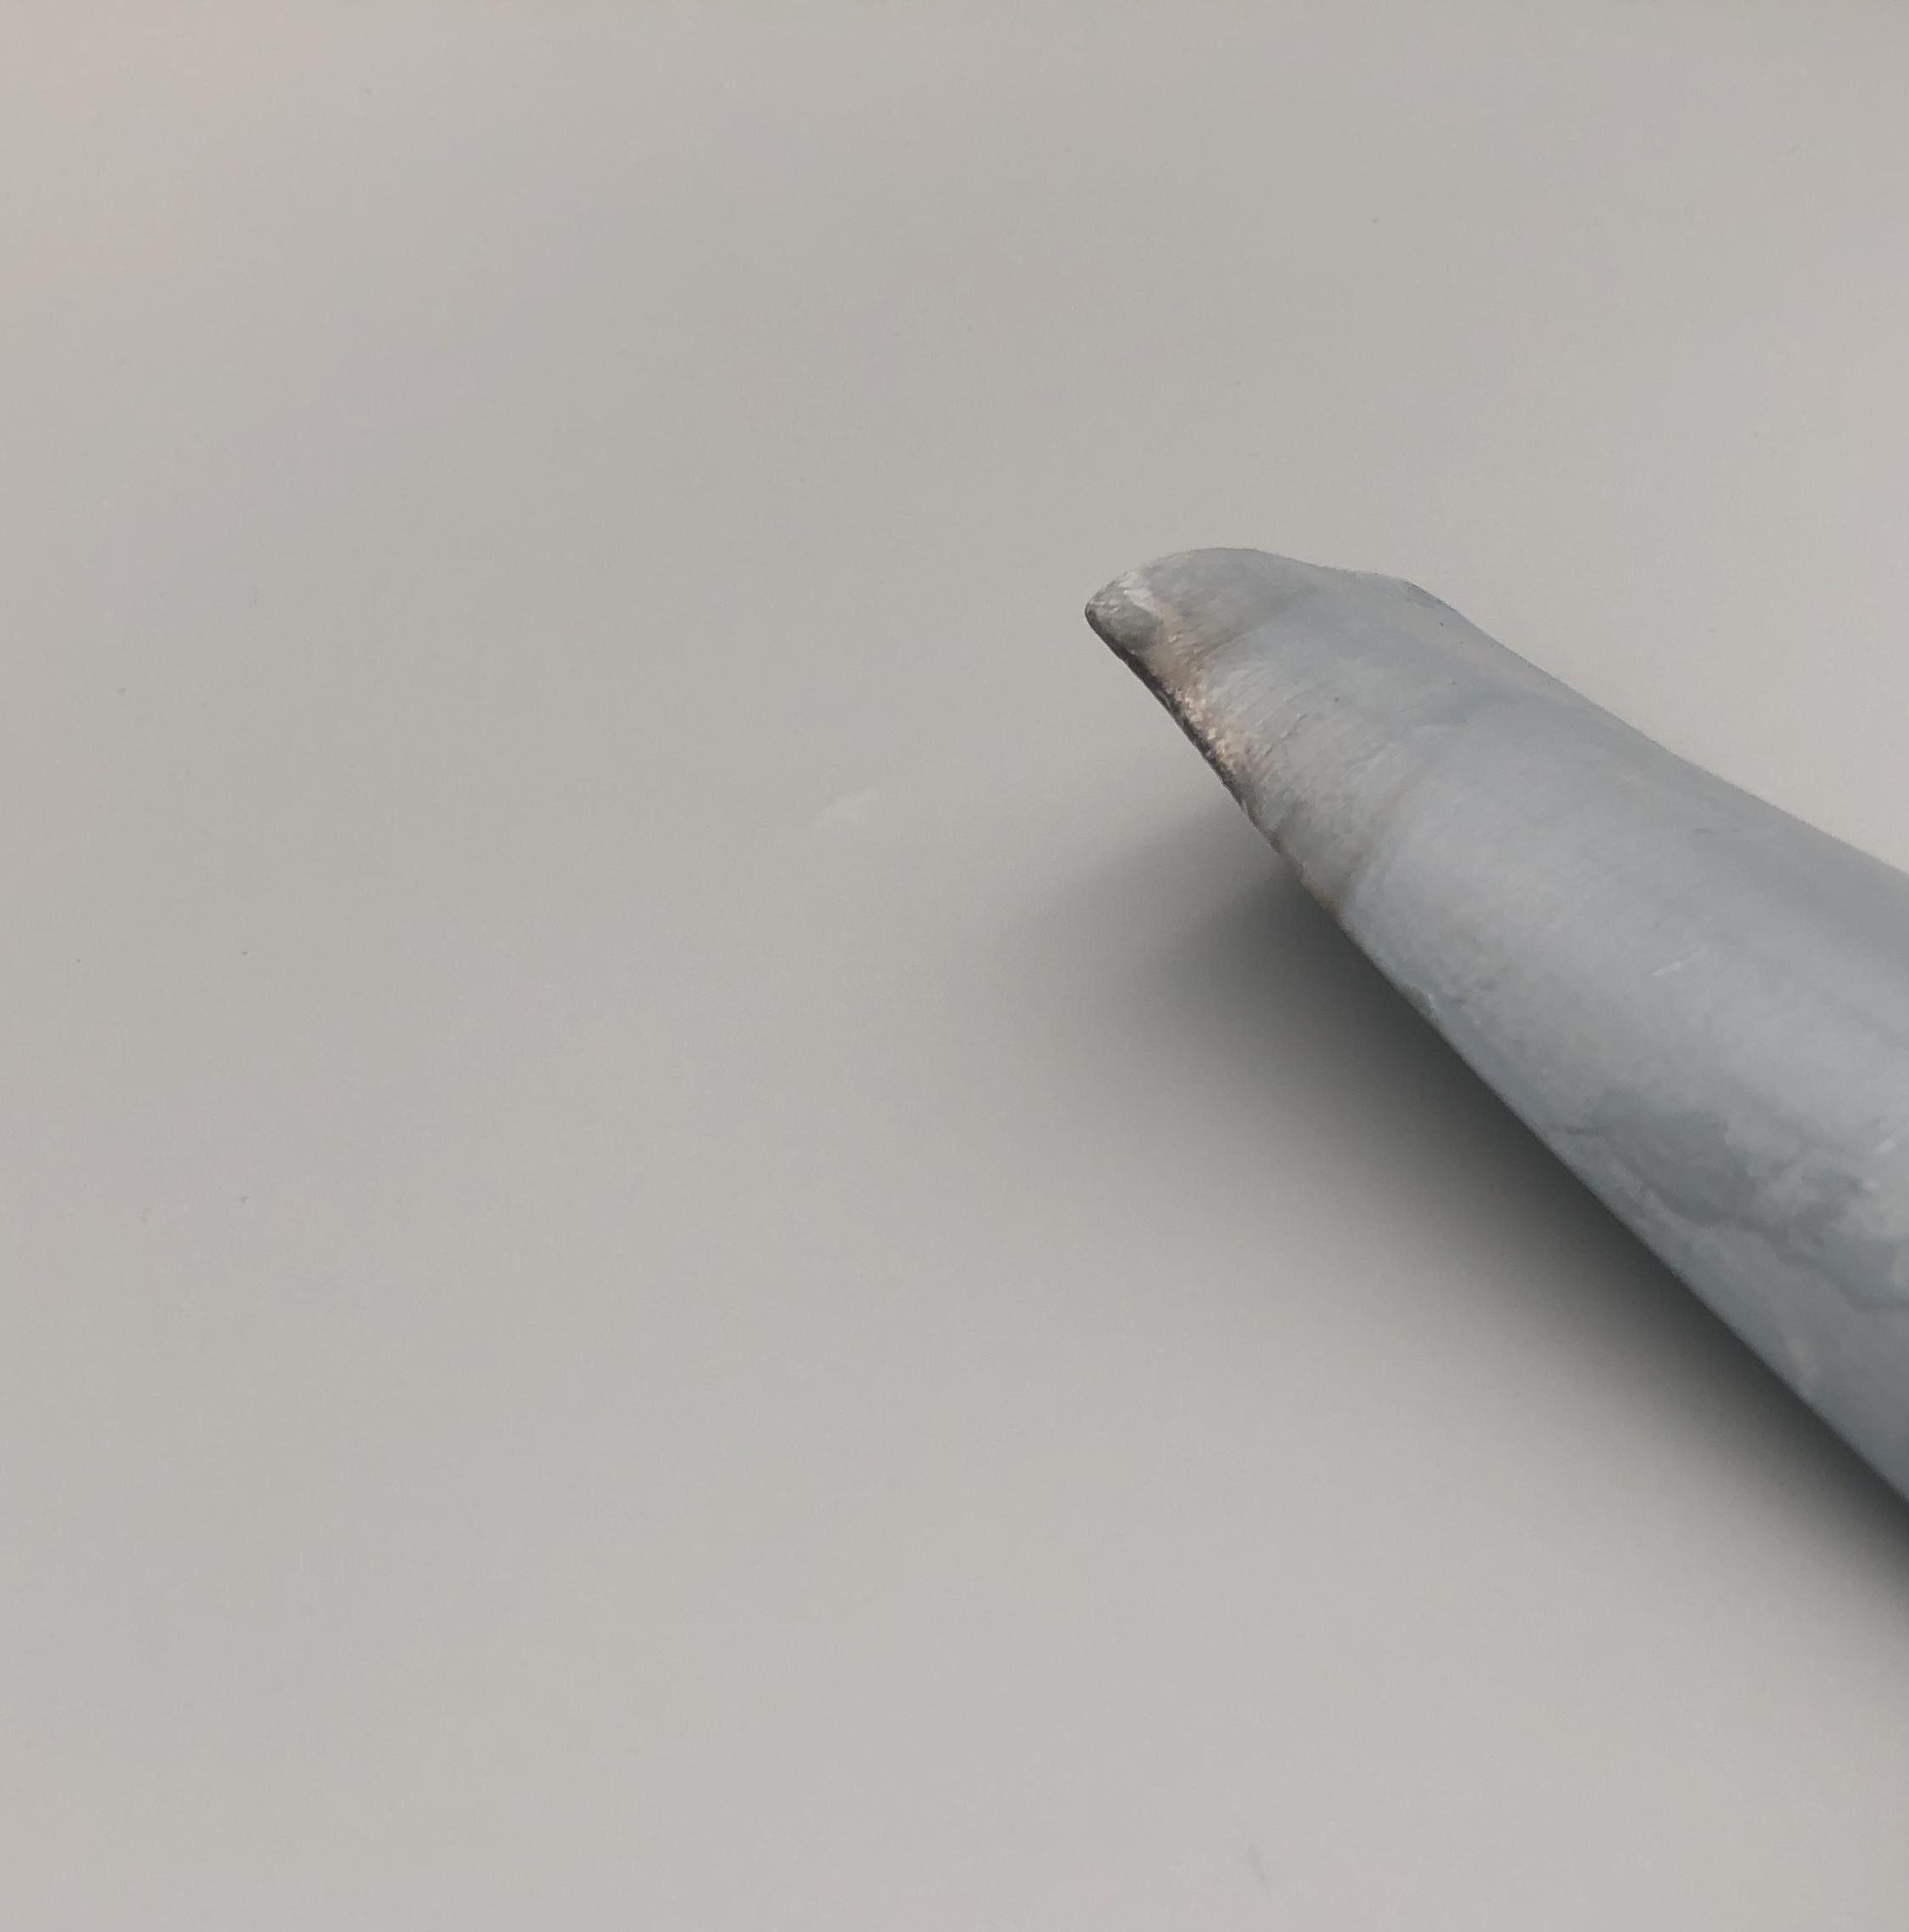ablation: (1084, 603, 1281, 829)
